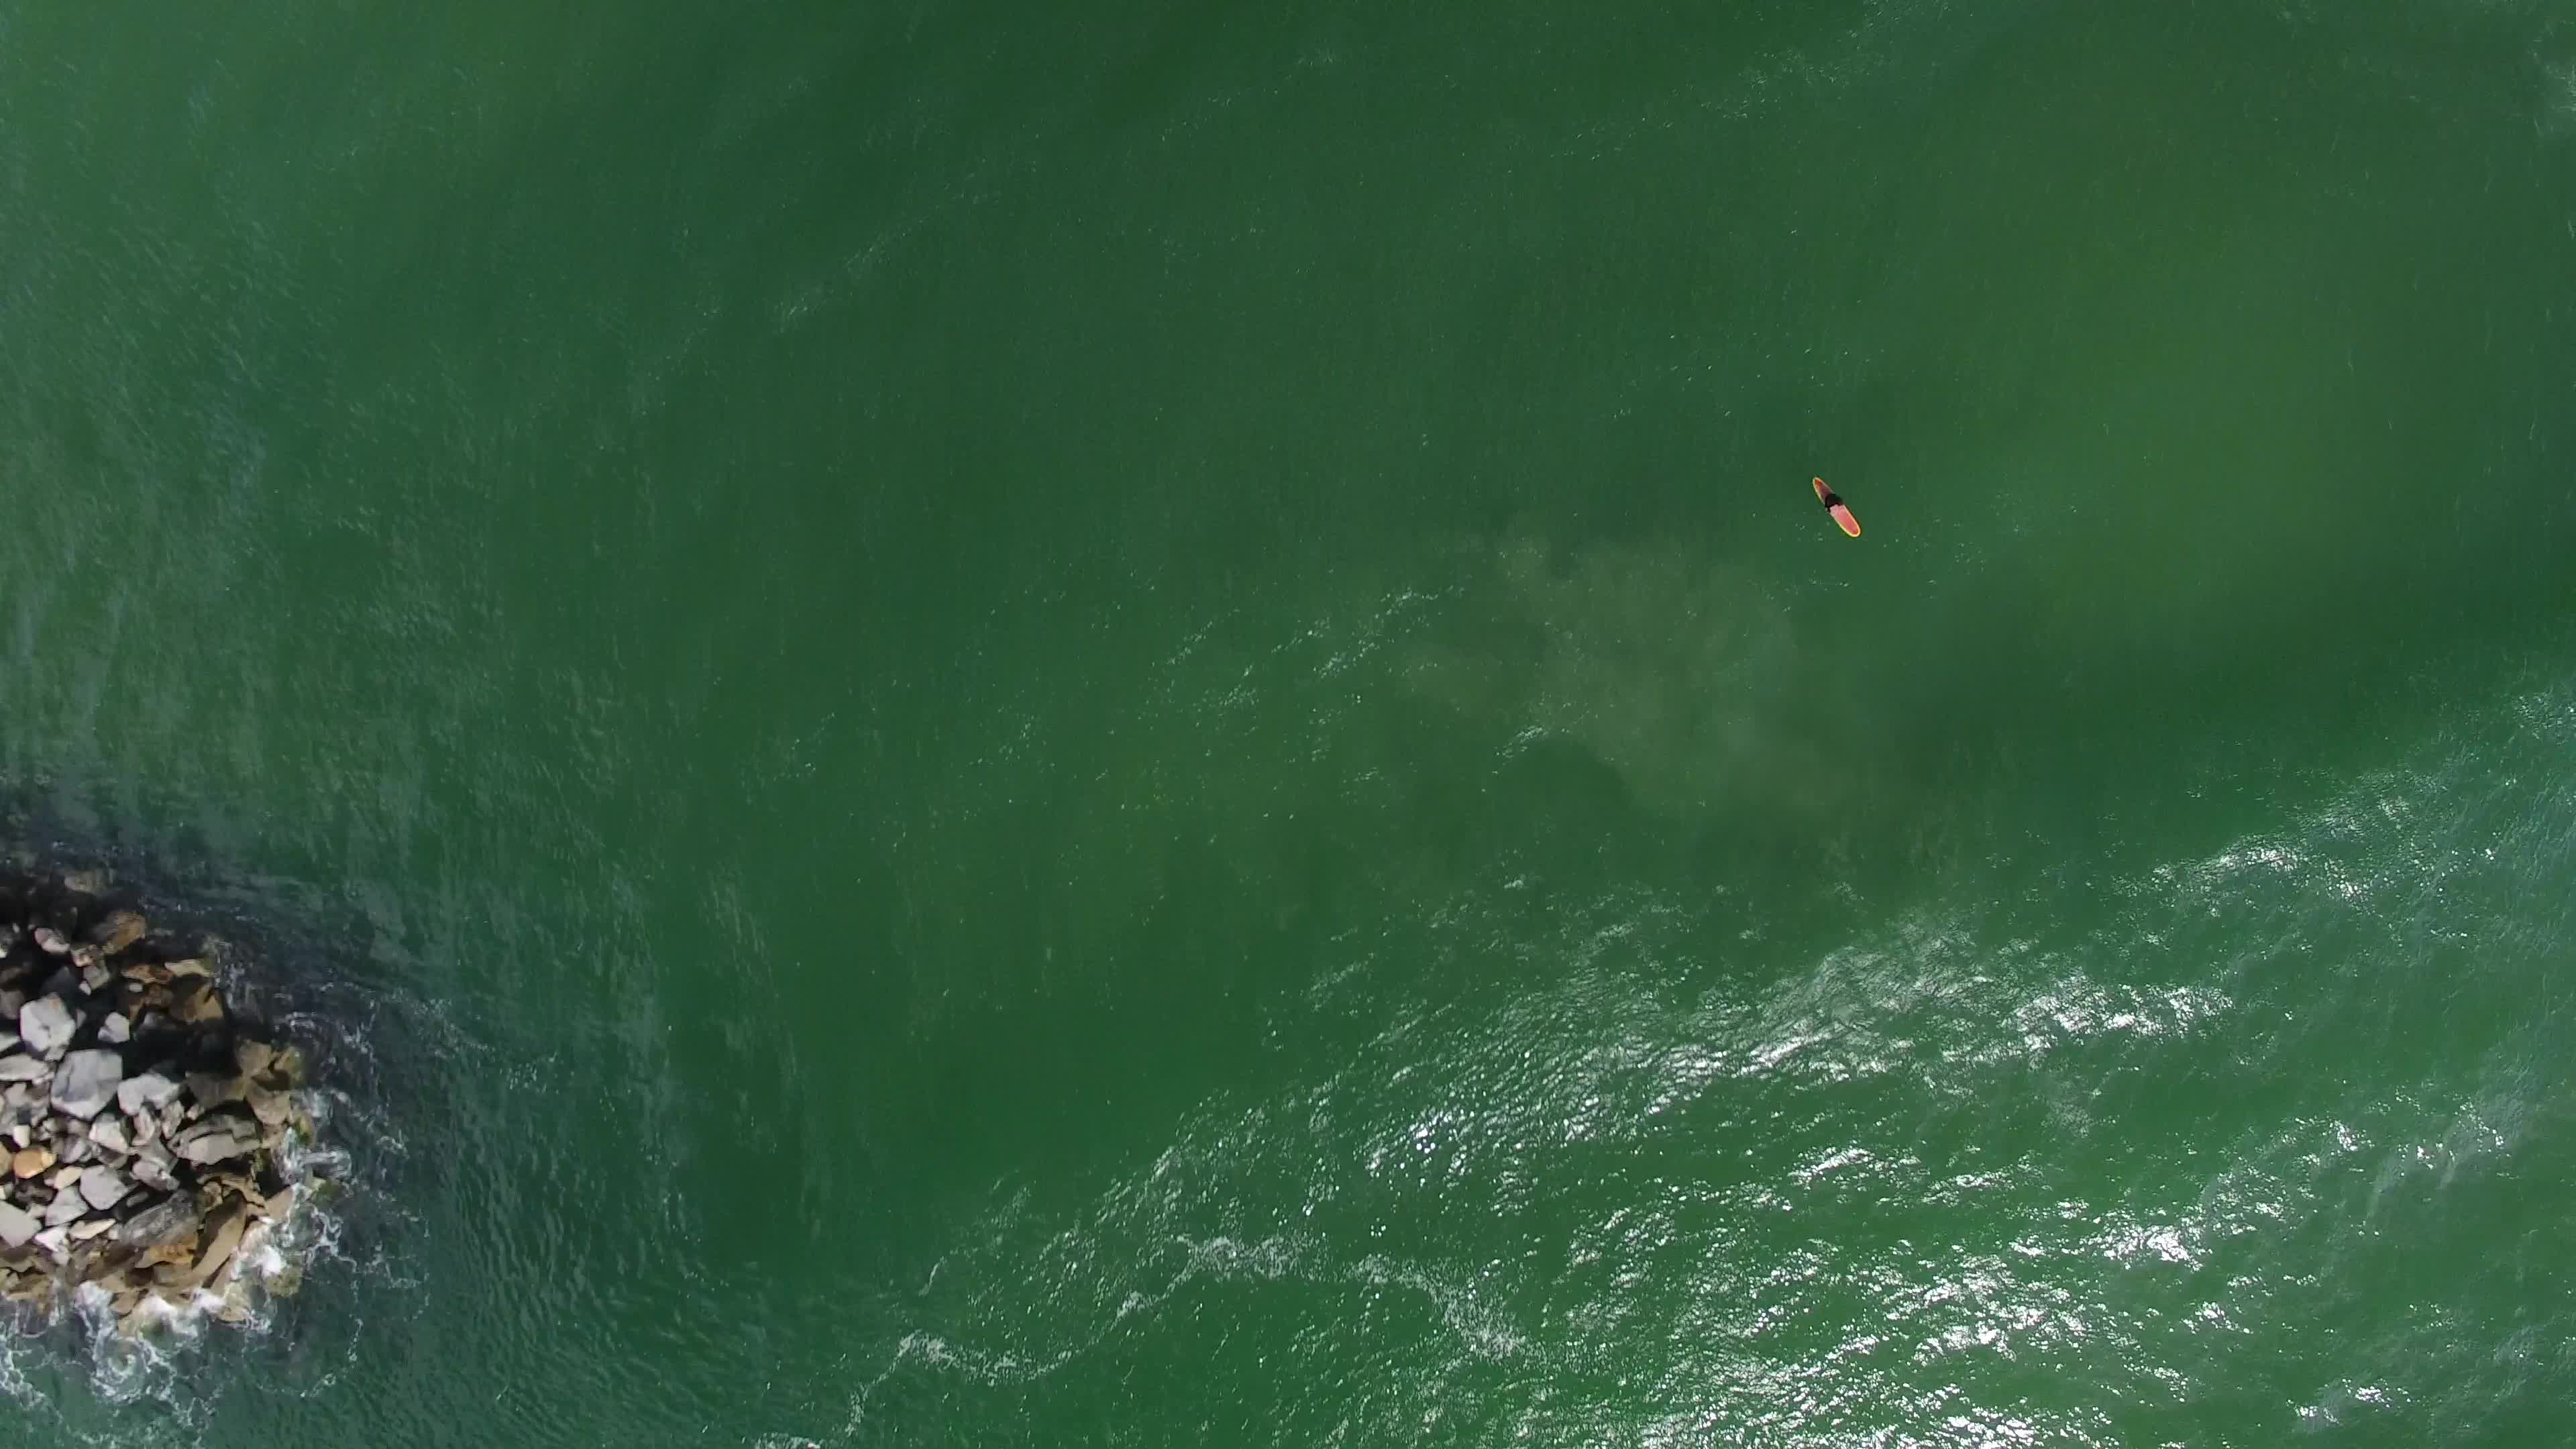surfer: (1801, 464, 1872, 548)
